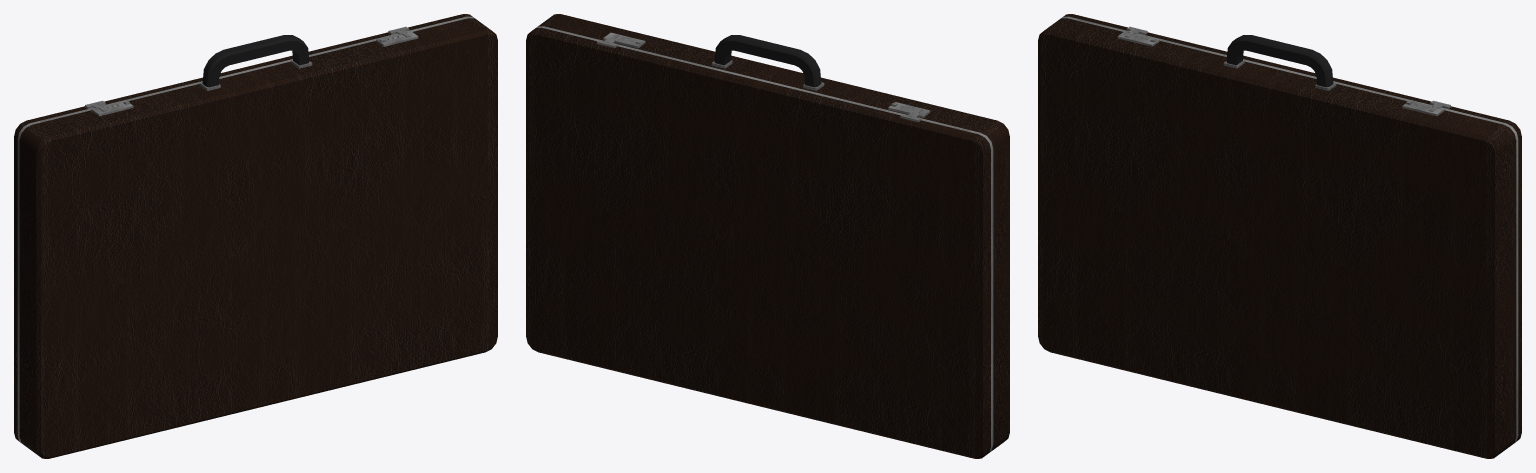
The model's file is briefcase_brown_2.fbx.
The picture shows the model from 3 angles, left to right: view 1: azimuth 30°, elevation 25°; view 2: azimuth 150°, elevation 25°; view 3: azimuth 330°, elevation 25°; orthographic projection.
Parts seen in each view (by area): view 1: briefcase_brown_2; view 2: briefcase_brown_2; view 3: briefcase_brown_2.
Boxes of the visible parts, box(x1,y1,x2,y2) form: briefcase_brown_2: box(14, 14, 497, 458); briefcase_brown_2: box(526, 14, 1009, 458); briefcase_brown_2: box(1038, 14, 1521, 458).
Size of the model in its own units: 0.9072 by 0.6642 by 0.0878.
